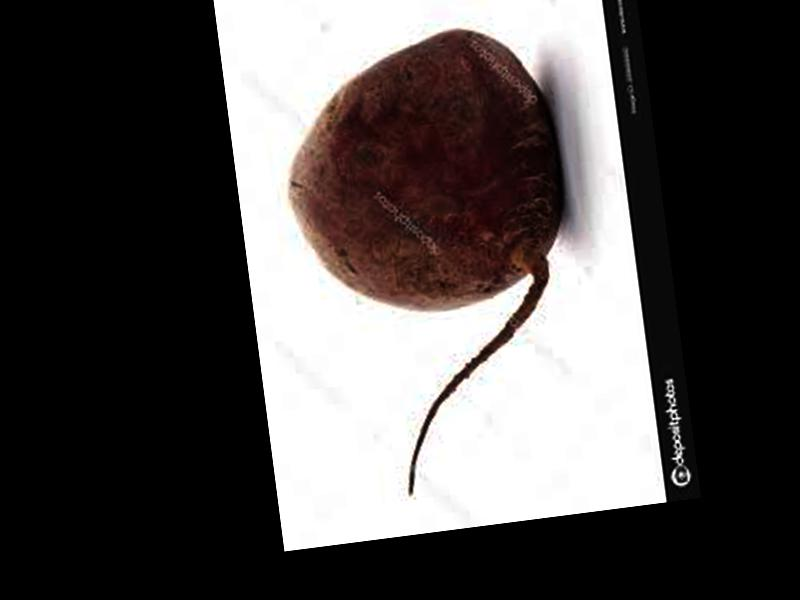Beet: (274, 19, 598, 503)
